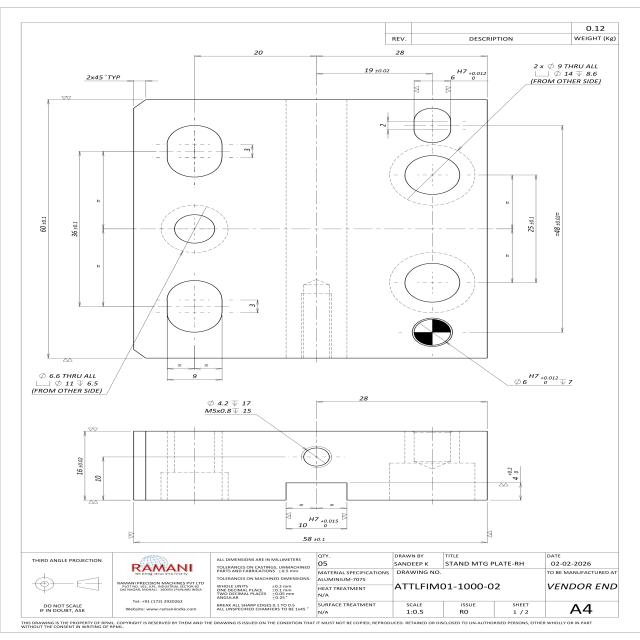dimension: (528, 62, 604, 85), (29, 372, 105, 395), (512, 372, 574, 385), (201, 399, 254, 414), (294, 516, 341, 528), (448, 68, 489, 81), (84, 73, 122, 81), (552, 211, 563, 238), (505, 466, 520, 481), (362, 67, 392, 74), (74, 456, 84, 476), (37, 215, 48, 233), (300, 535, 328, 542), (526, 216, 537, 233), (70, 221, 80, 238), (356, 394, 371, 402), (393, 48, 407, 56), (251, 49, 266, 56), (92, 473, 102, 482), (190, 372, 199, 380), (242, 146, 252, 152), (246, 303, 257, 308), (378, 122, 387, 128)
